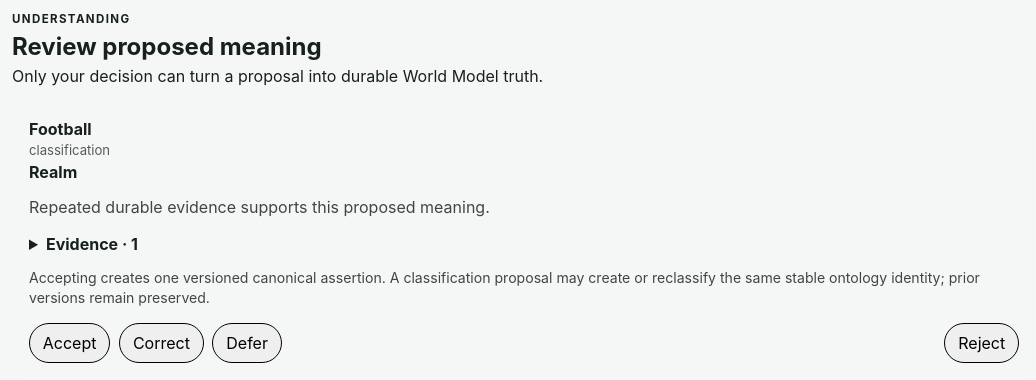
it: CandidateReview › removes a candidate after final acceptance and refreshes server state
Click the button "Accept" at {"x": 70, "y": 343}, box x1=29 y1=323 x2=110 y2=363
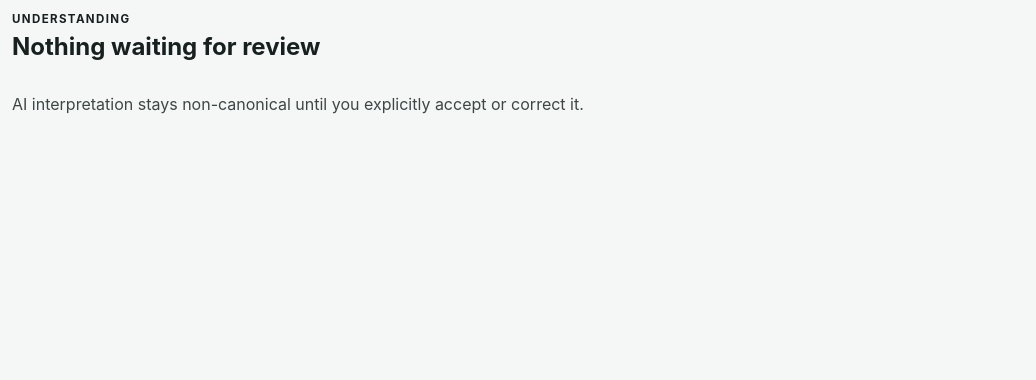
Expected: the text "Football" is gone
Expected: the heading "Nothing waiting for review" is shown, x1=12 y1=32 x2=320 y2=61
